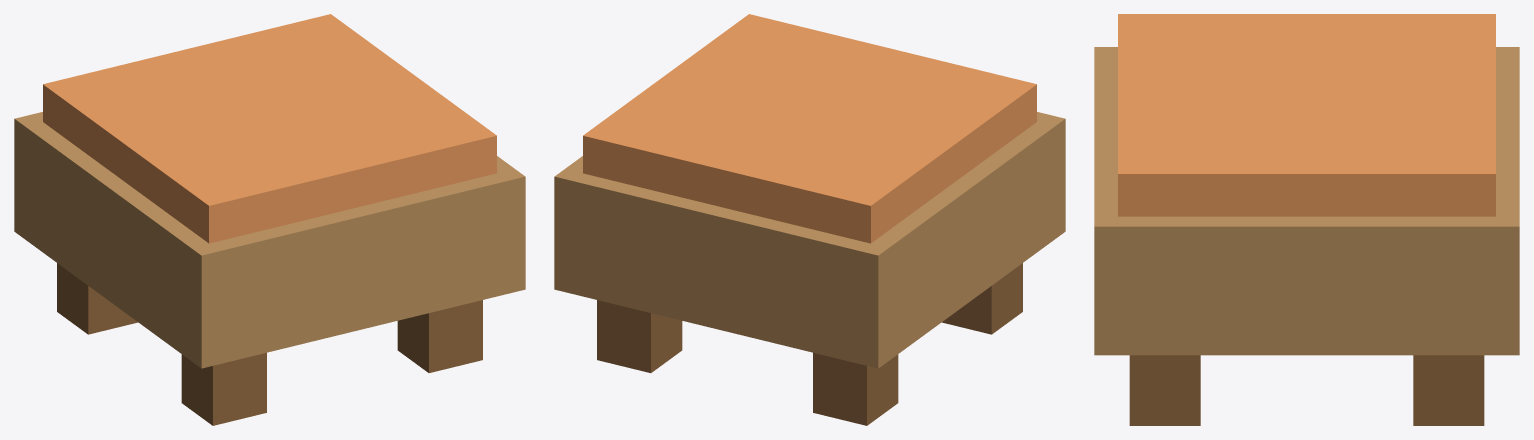
File: footstool.glb
3 views of the same model, side by side, from view 1: azimuth 30°, elevation 25°; view 2: azimuth 150°, elevation 25°; view 3: azimuth 270°, elevation 25° (orthographic). The views are drawn at different scales.
Parts seen in each view (by area): view 1: footstool; view 2: footstool; view 3: footstool.
Part boxes in pixels (bbox=[...]): footstool: bbox=[14, 14, 525, 425]; footstool: bbox=[554, 14, 1065, 425]; footstool: bbox=[1094, 14, 1519, 425].
Bounding box in the file's own units: 18 × 12 × 18.
